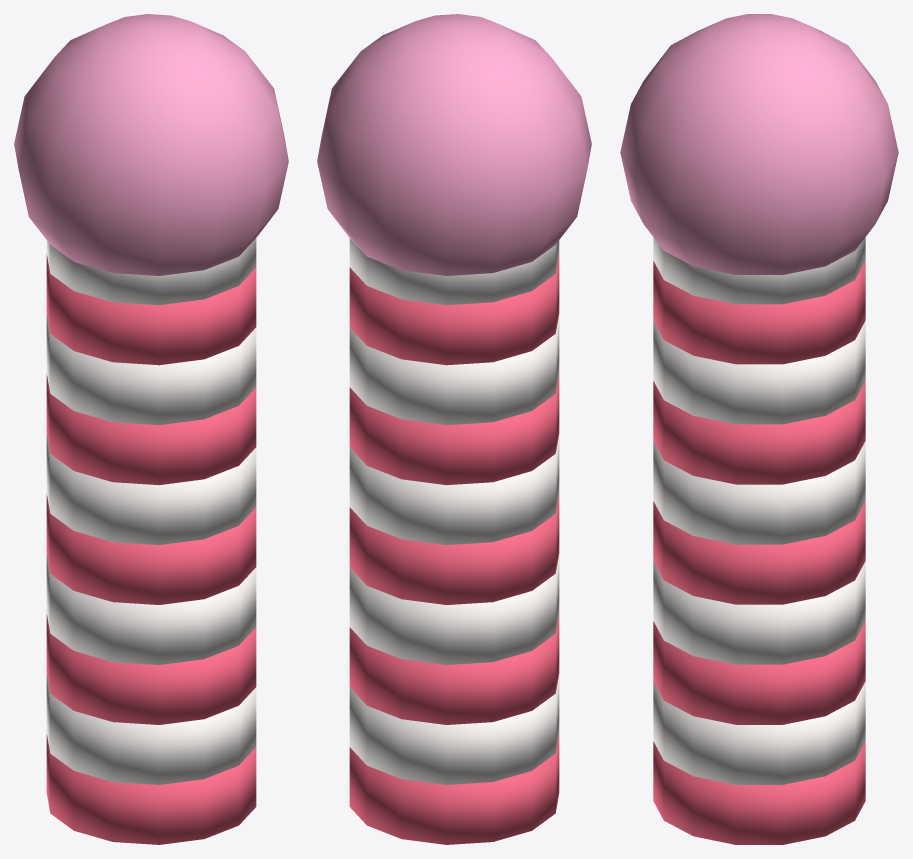
Rendered from candy_pillar.glb.
The picture shows the model from 3 angles, left to right: view 1: azimuth 30°, elevation 25°; view 2: azimuth 150°, elevation 25°; view 3: azimuth 270°, elevation 25°; orthographic projection.
Visible parts, largest first — view 1: ring0, ring1, capr; view 2: ring0, ring1, capr; view 3: ring0, ring1, capr.
Part boxes in pixels (bbox=[...]): ring0: bbox=[46, 254, 256, 844]; ring1: bbox=[46, 238, 256, 784]; capr: bbox=[14, 14, 288, 275]; ring0: bbox=[349, 254, 559, 844]; ring1: bbox=[349, 238, 559, 784]; capr: bbox=[317, 14, 591, 275]; ring0: bbox=[653, 261, 865, 844]; ring1: bbox=[653, 237, 865, 784]; capr: bbox=[620, 14, 898, 274].
Size of the model in its own units: 2.05 by 6.45 by 2.1.
